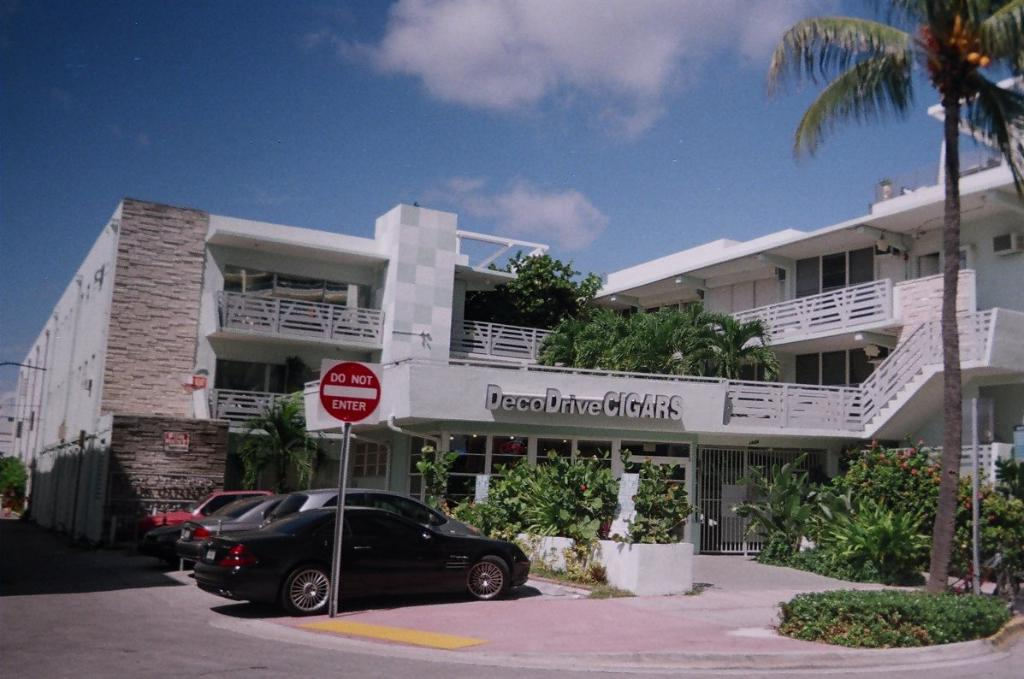car: (189, 497, 553, 609), (184, 476, 351, 555)
